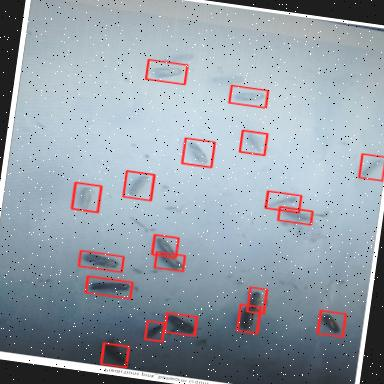pbw: (136, 98, 207, 136), (149, 144, 224, 176), (170, 242, 218, 285), (281, 212, 329, 252), (120, 0, 168, 33), (267, 114, 312, 146), (258, 88, 298, 120), (240, 226, 278, 251), (203, 0, 256, 16)
